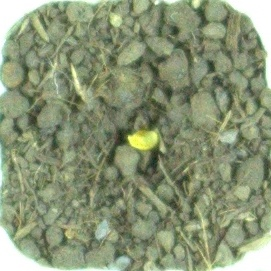pepper seed: (47, 53, 207, 204)
